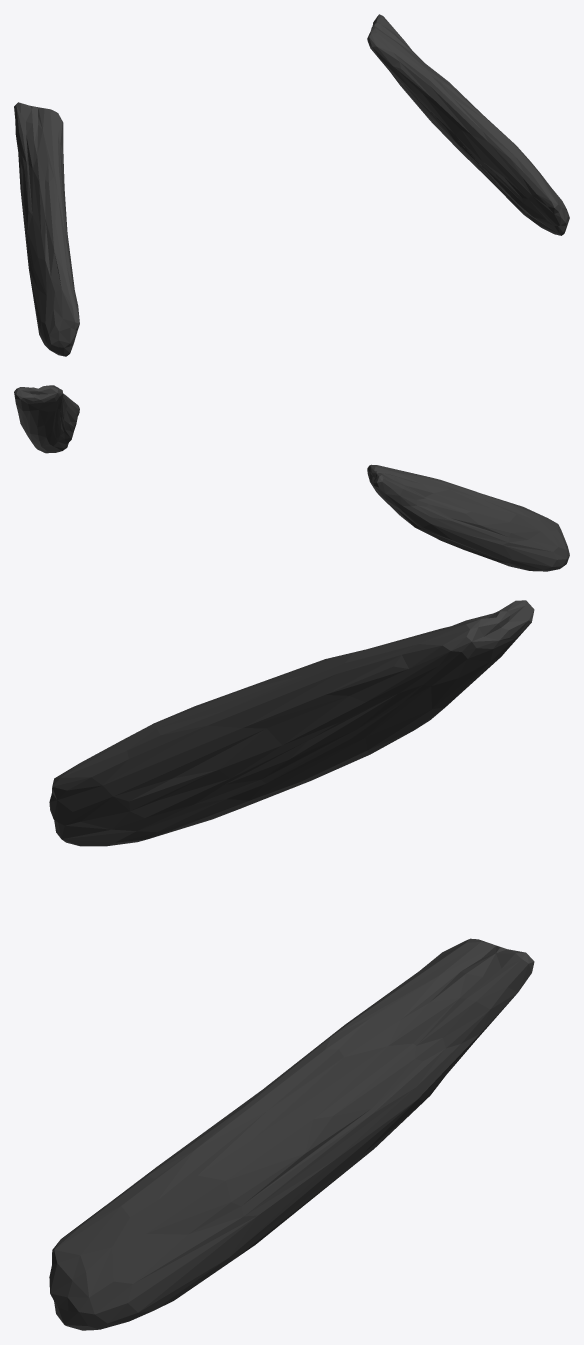
Rendered from m_quadratus_femoris.glb.
The picture shows the model from 3 angles, top to bottom: view 1: azimuth 30°, elevation 25°; view 2: azimuth 150°, elevation 25°; view 3: azimuth 270°, elevation 25°; orthographic projection. The views are drawn at different scales.
Parts seen in each view (by area): view 1: m_quadratus_femoris; view 2: m_quadratus_femoris; view 3: m_quadratus_femoris.
Part boxes in pixels (left/top/right/bottom): m_quadratus_femoris: left=14, top=14, right=569, bottom=356; m_quadratus_femoris: left=14, top=385, right=569, bottom=571; m_quadratus_femoris: left=49, top=600, right=534, bottom=1330.
Bounding box in the file's own units: 0.00586 × 0.00167 × 0.00236.
1 material, 1 textured.
